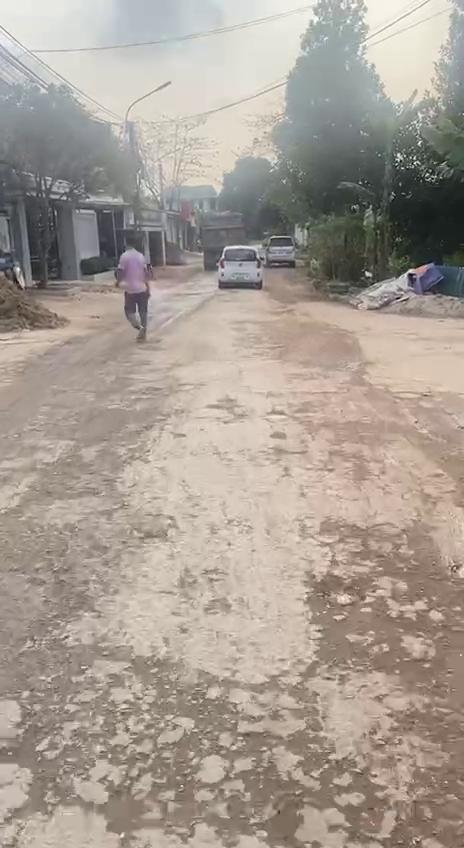pothole: (304, 568, 464, 695), (326, 750, 460, 848), (240, 792, 312, 848), (95, 778, 148, 838)
